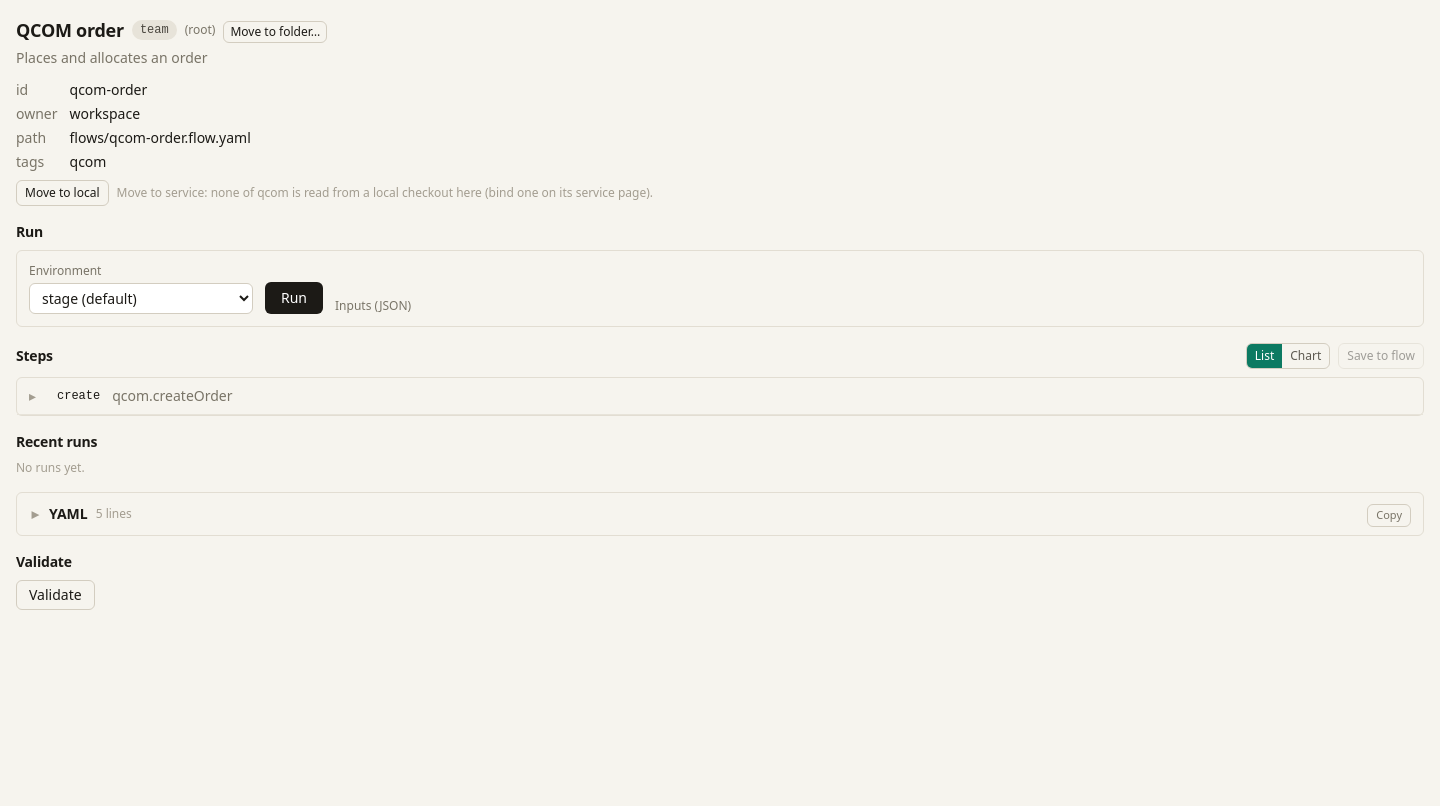
Scenario: FlowDetailPage › edits a step input, runs with edits, and saves the edits to the flow
This screenshot has width=1440, height=806.
Expected: the heading "QCOM order" is shown, x1=16 y1=16 x2=124 y2=44
Note: Expand the step card.
Click the button "▸ create qcom.createOrder": (79, 396) x1=17 y1=378 x2=1423 y2=414
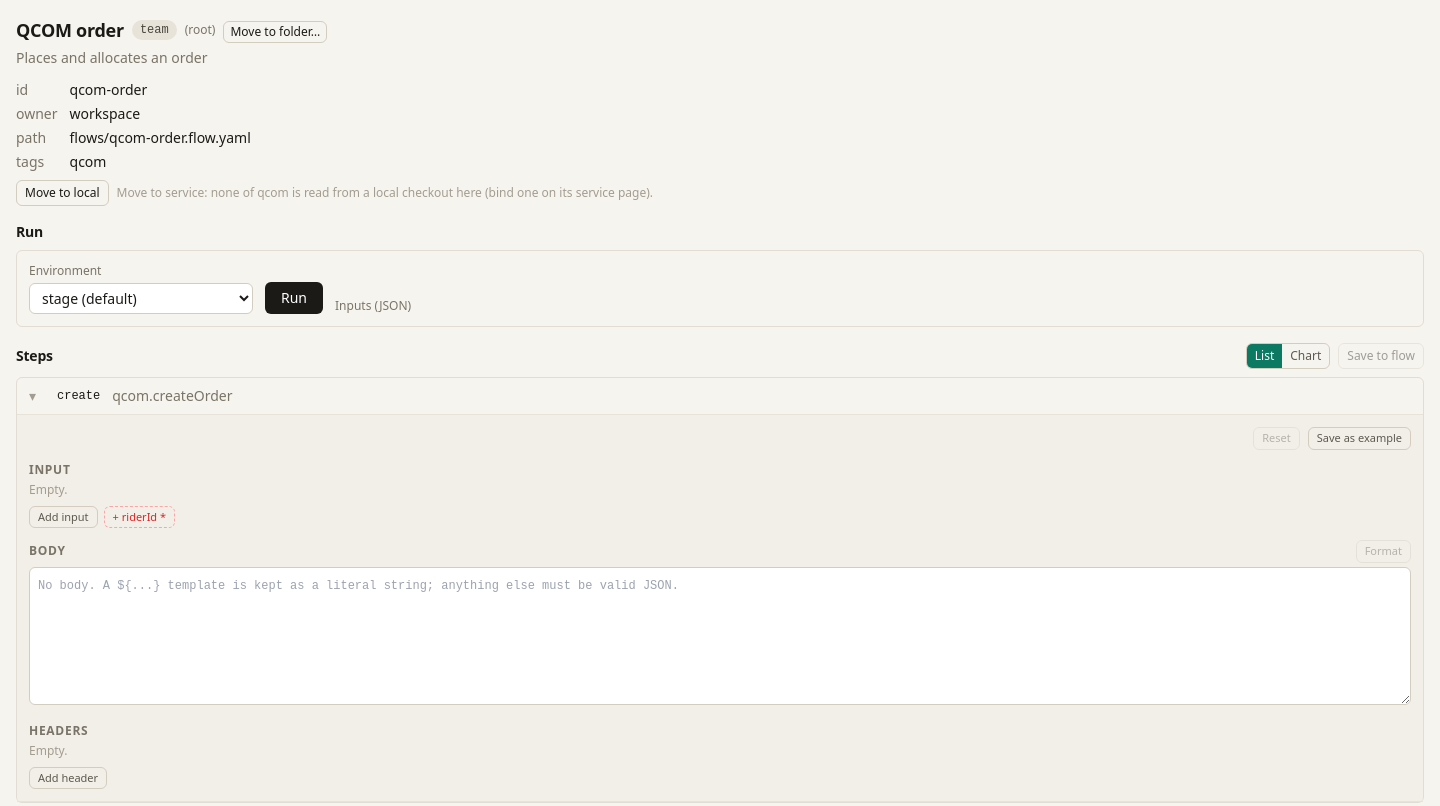
Click the button "+ riderId *": (139, 517) x1=104 y1=506 x2=175 y2=528
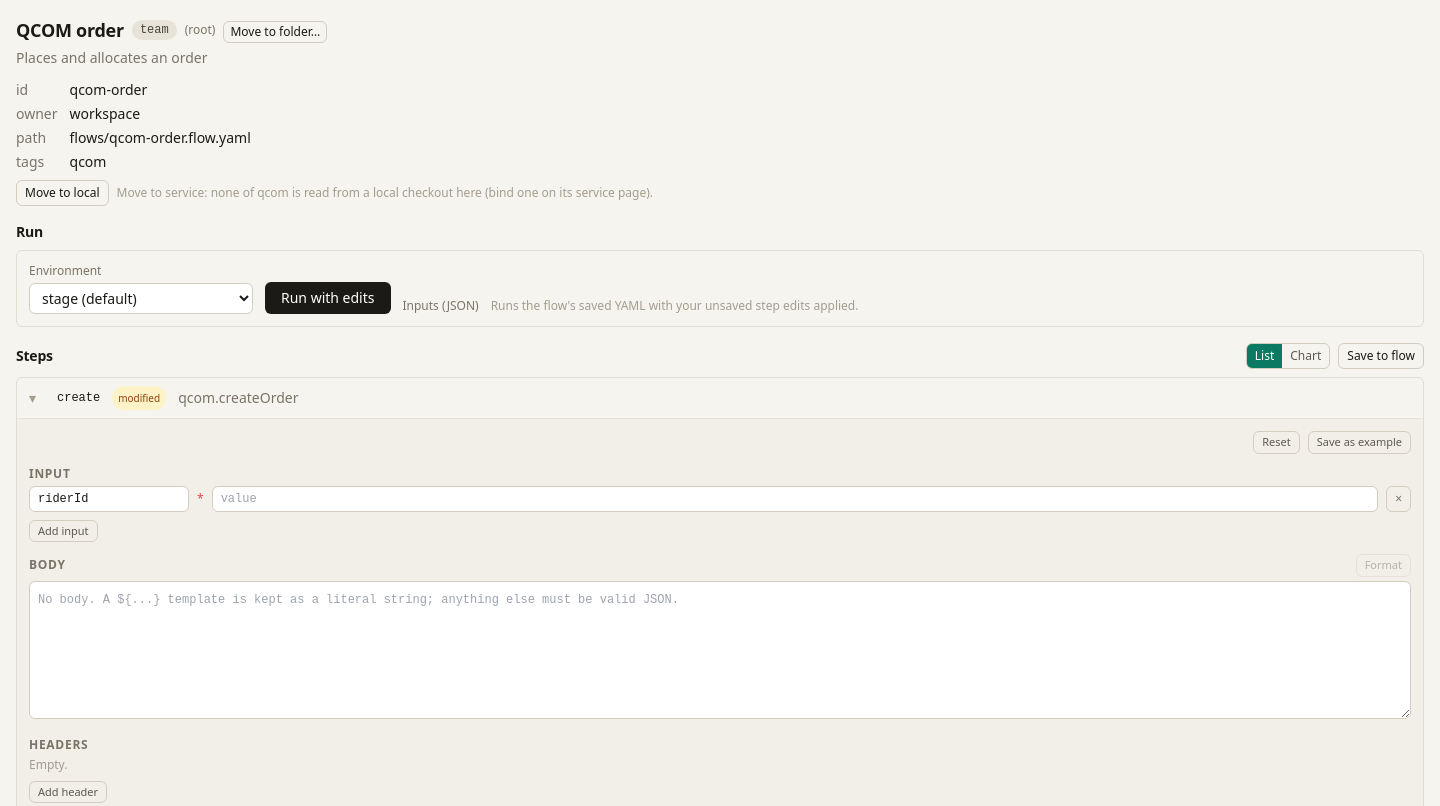
In the field with placeholder "value": (795, 498) x1=212 y1=486 x2=1378 y2=512, type "rider_42"
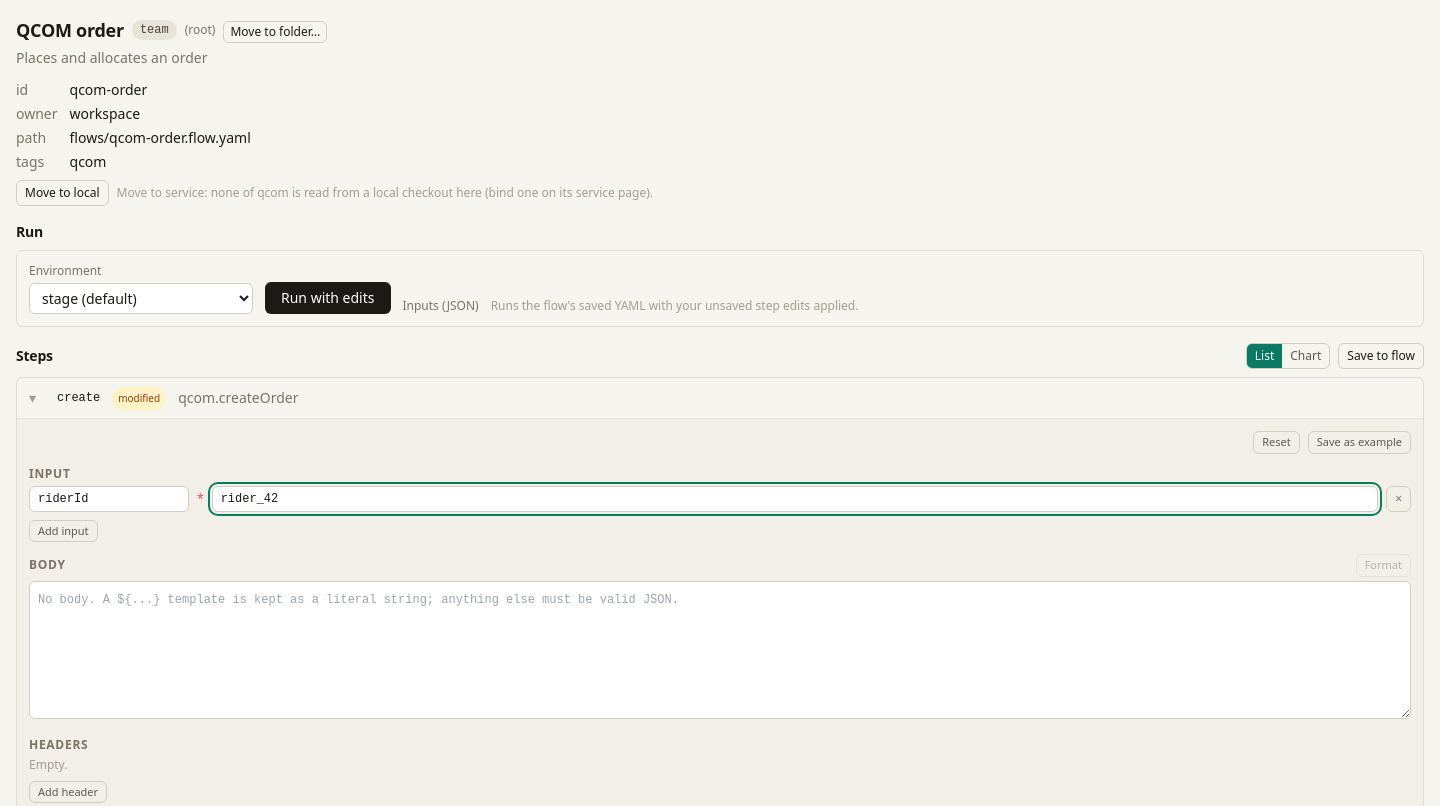
Now the text "modified" is shown, box x1=112 y1=386 x2=166 y2=410
Click the button "Run with edits": (328, 298) x1=265 y1=282 x2=390 y2=314
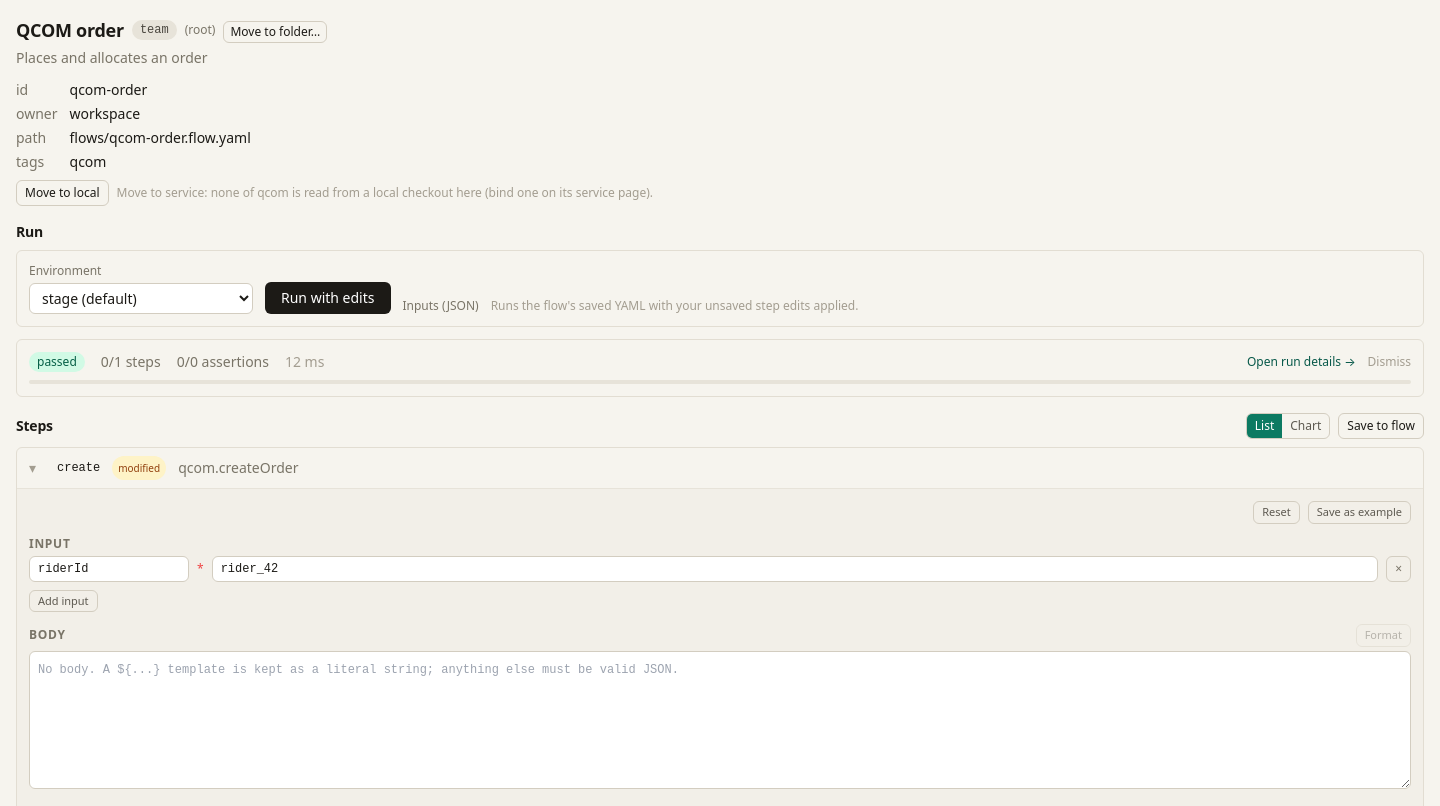
Expected: the heading "QCOM order" is shown, x1=16 y1=16 x2=124 y2=44
Now the link "Open run details →" is shown, box x1=1247 y1=354 x2=1356 y2=370
